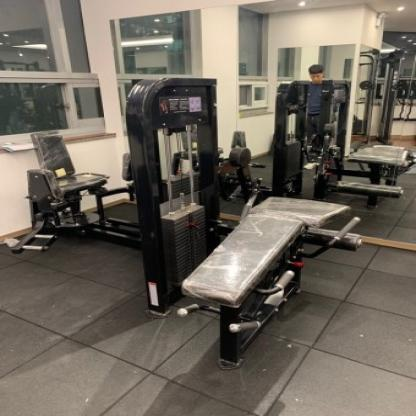reg curl machine: (121, 75, 369, 372)
